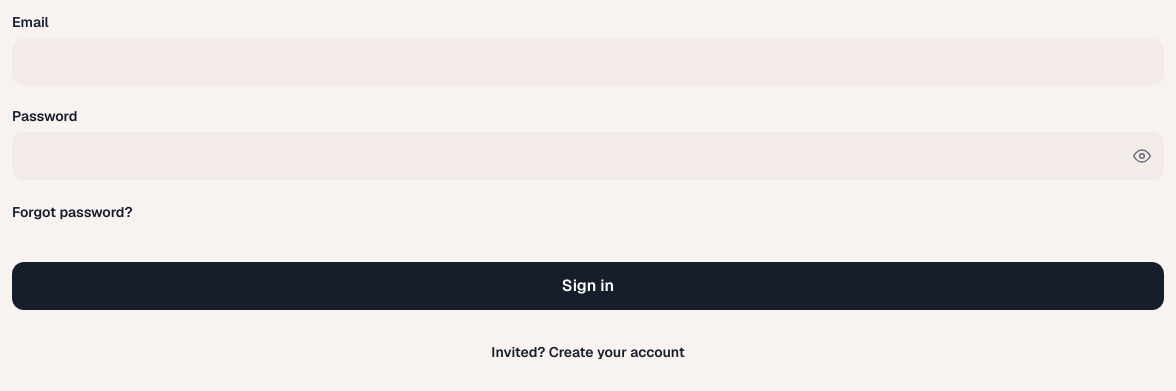
Scenario: LoginForm › submits the mode it is showing, however many times the person toggled
The image size is (1176, 391).
Check: the button "Sign in" is shown, box [12,262,1164,310]
Click the button "Invited? Create your account". click: (588, 352)
box: [12,330,1164,374]
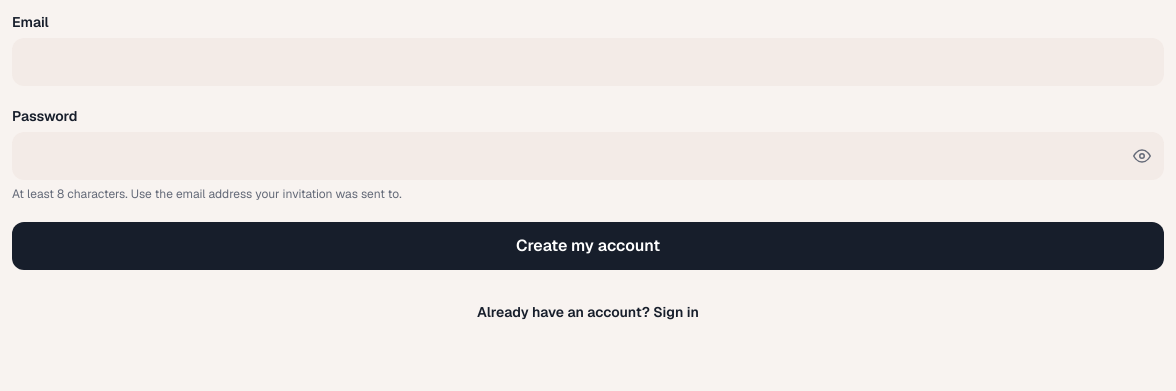
Check: the button "Create my account" is shown, box [12,222,1164,270]
Check: the text "invitation was sent to" is shown, box [12,186,402,202]
Click the button "Already have an account? Sign in". click: (588, 312)
box: [12,290,1164,334]
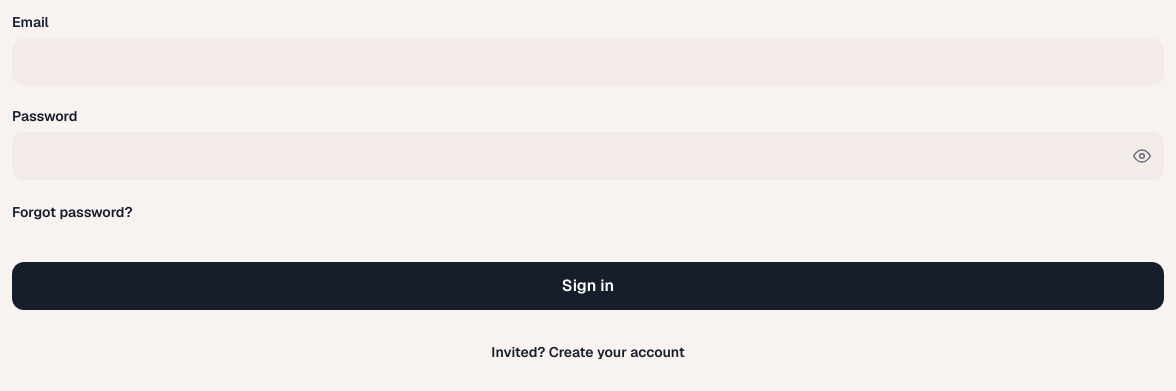
Check: the button "Sign in" is shown, box [12,262,1164,310]
